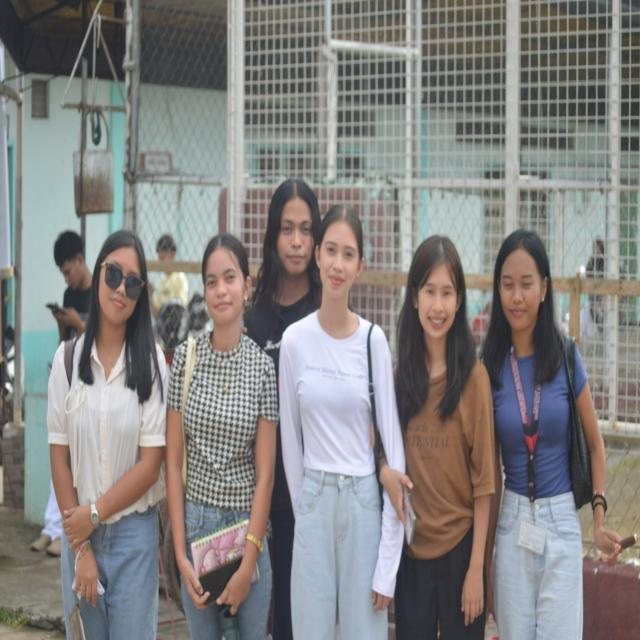person: (280, 205, 404, 639), (48, 231, 167, 639), (167, 234, 277, 639), (483, 230, 582, 639), (395, 236, 495, 639), (270, 425, 294, 639), (52, 231, 91, 342), (153, 272, 188, 316)
